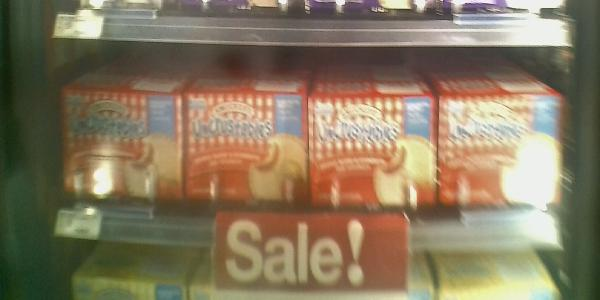icecream: (307, 87, 443, 214), (185, 84, 310, 211), (437, 86, 560, 211), (63, 83, 187, 206)
